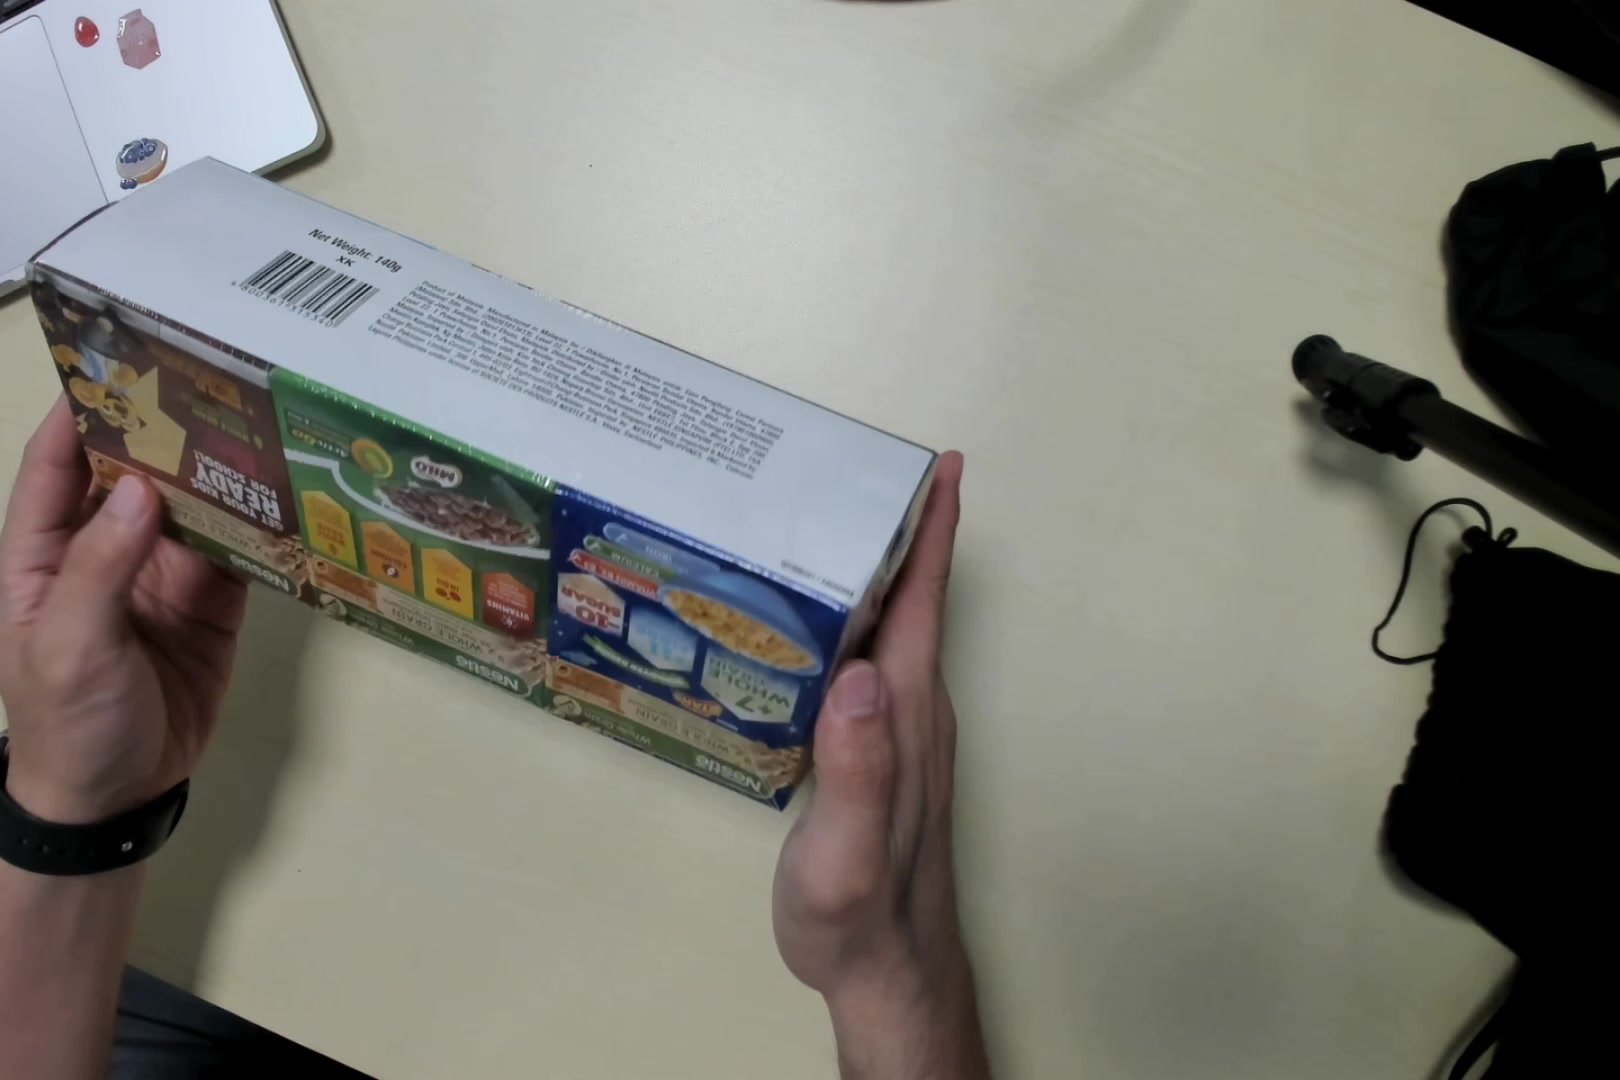BreakfastCereals_100-199g_Halal_NonHealthy: (14, 157, 921, 800)
